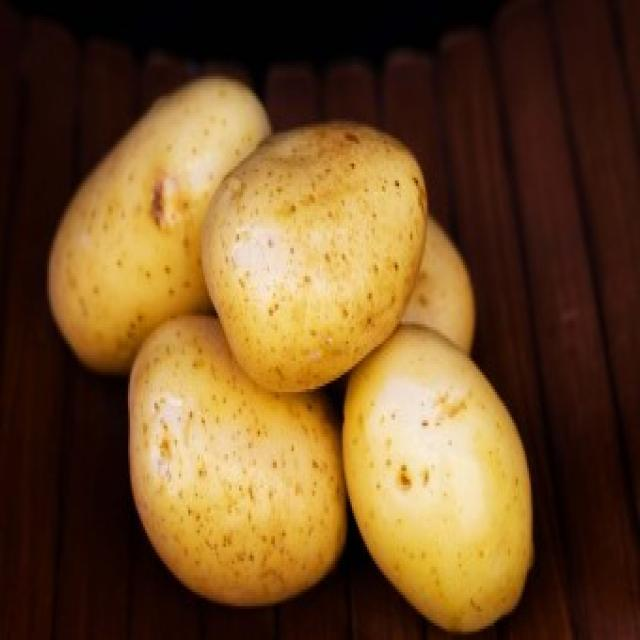potato: (48, 72, 272, 380), (122, 314, 348, 614), (203, 114, 430, 395), (343, 320, 534, 640), (356, 196, 476, 399)
